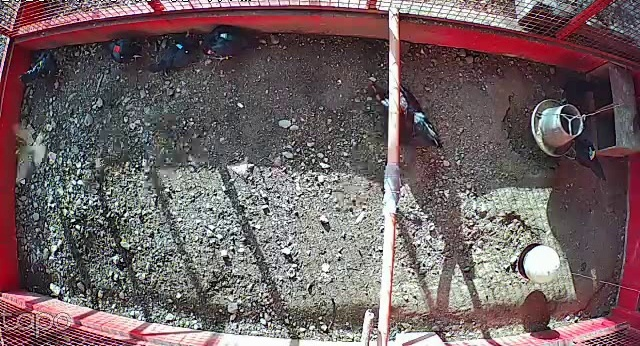Chicken: (197, 23, 271, 65), (147, 30, 196, 81), (560, 136, 606, 183), (16, 50, 62, 87), (104, 35, 150, 70)
Rooster: (365, 72, 449, 155)
Saddle_Color_Blue: (176, 44, 183, 50)
Saddle_Color_Red: (114, 45, 122, 53)
Saddle_Color_White: (221, 32, 226, 38)
Saddle_Color_Yellow: (40, 60, 44, 69)
Saddle_Color_YellowGreen: (587, 148, 598, 160)
